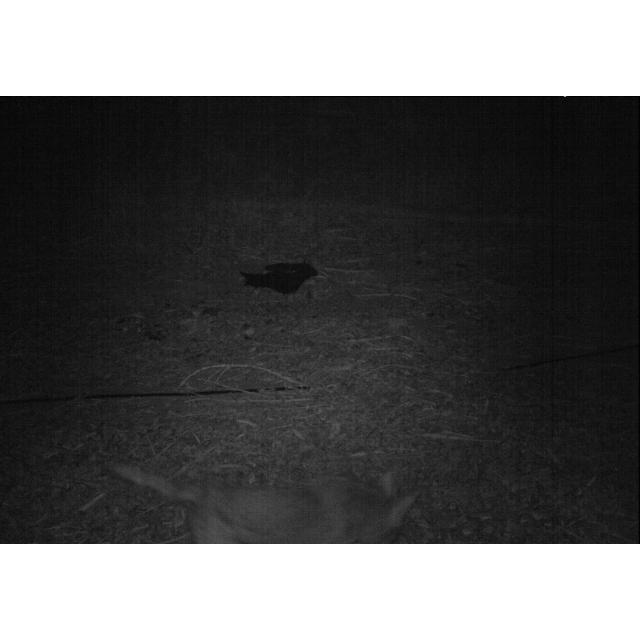animals: (105, 455, 423, 545)
